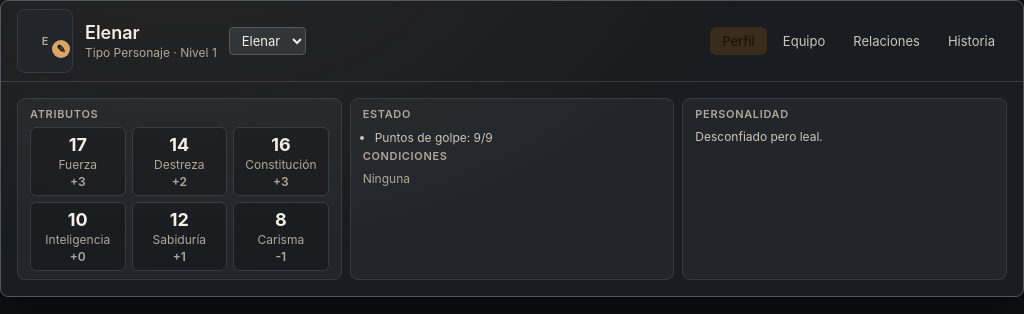
Test: Character Hub (PMB-3.7) › relaciones muestra los vínculos del contenido usado por el personaje
Click the button "Relaciones" at (887, 41), box x1=841 y1=27 x2=932 y2=55
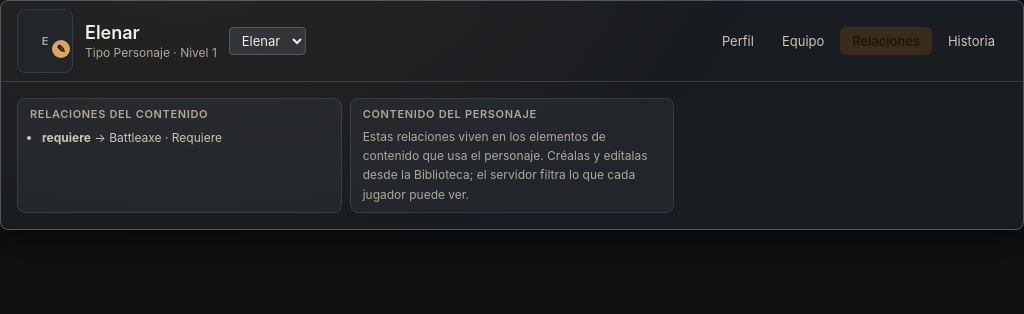
Check: the list item "requiere → Battleaxe · Requiere" is shown, box x1=42 y1=130 x2=222 y2=145
Check: the text "requiere" is shown, box x1=42 y1=130 x2=91 y2=145
